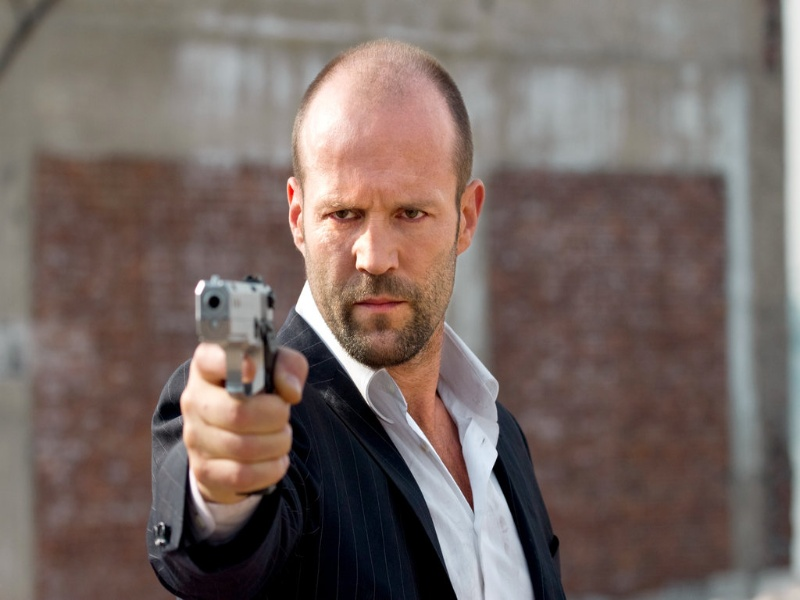person: (146, 41, 567, 600)
weapon: (195, 272, 277, 397)
